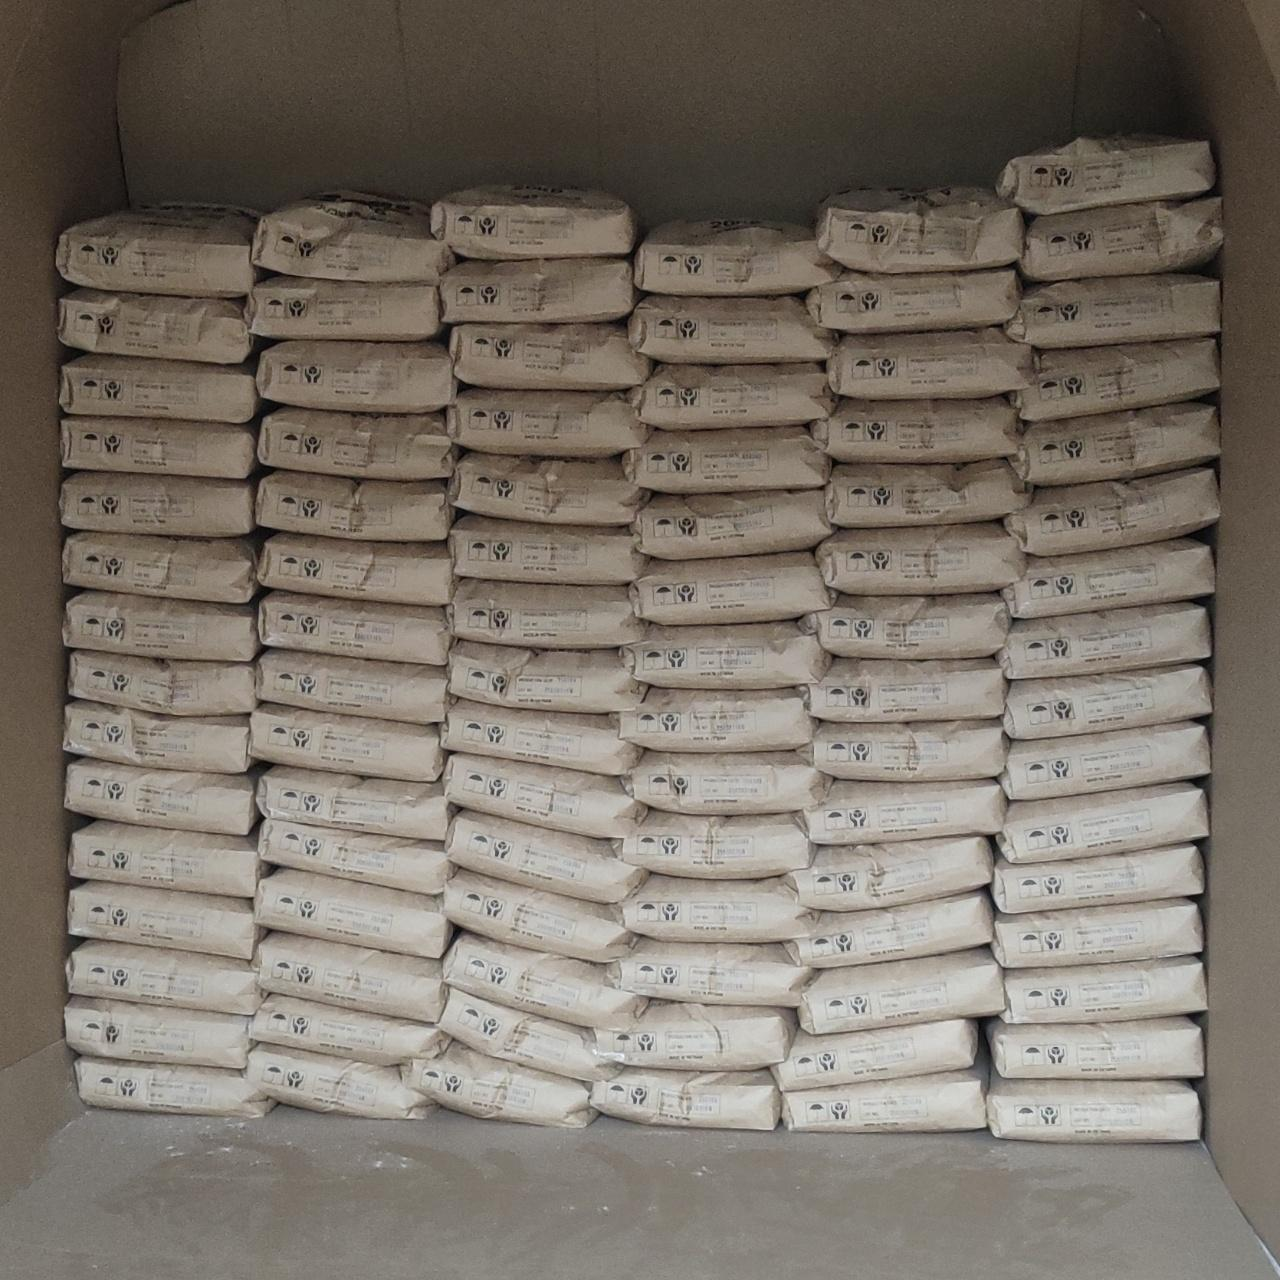sack: (444, 932, 644, 1026), (56, 203, 258, 295), (253, 192, 452, 282), (445, 812, 644, 900), (998, 136, 1214, 215), (816, 188, 1022, 270), (1006, 470, 1218, 550), (256, 870, 450, 956), (256, 932, 444, 1020), (442, 870, 629, 958), (1012, 404, 1218, 484), (1014, 340, 1218, 420), (444, 754, 642, 836), (1020, 198, 1223, 278), (998, 784, 1206, 862), (802, 949, 1000, 1030), (440, 988, 617, 1078), (402, 1044, 594, 1126), (998, 604, 1208, 678), (1005, 540, 1212, 614), (1002, 724, 1206, 798), (787, 892, 990, 966), (1008, 274, 1218, 346), (1005, 666, 1210, 738), (636, 220, 836, 294), (784, 838, 990, 908), (70, 881, 260, 958), (442, 700, 638, 774), (252, 704, 442, 779), (68, 940, 260, 1014), (260, 821, 452, 894), (433, 186, 636, 256), (632, 552, 832, 622), (70, 822, 264, 894), (258, 765, 450, 838), (60, 290, 252, 362), (772, 1020, 976, 1088), (828, 331, 1030, 399), (450, 454, 646, 524), (256, 651, 448, 722), (66, 760, 254, 832), (258, 470, 452, 540), (994, 900, 1201, 966), (260, 408, 454, 478), (594, 1000, 794, 1068), (258, 342, 454, 411), (608, 938, 810, 1005), (258, 535, 452, 604), (248, 1044, 430, 1118), (818, 524, 1022, 590), (258, 592, 448, 662), (448, 642, 644, 710), (808, 268, 1017, 332), (992, 846, 1201, 910), (66, 996, 250, 1068), (624, 428, 828, 492), (826, 462, 1030, 526), (450, 516, 646, 583), (632, 492, 830, 558), (988, 1017, 1201, 1078), (1002, 958, 1204, 1022), (629, 297, 835, 360), (812, 399, 1017, 462), (66, 702, 250, 772), (624, 622, 828, 686), (60, 356, 256, 422), (450, 388, 646, 454), (617, 810, 812, 876), (784, 1065, 983, 1130), (629, 365, 832, 428), (66, 592, 254, 660), (988, 1080, 1198, 1141), (448, 580, 642, 646), (452, 324, 651, 388), (64, 532, 258, 598), (252, 996, 445, 1062), (618, 876, 813, 940), (802, 779, 1005, 842), (442, 258, 636, 322), (804, 658, 1005, 719), (802, 594, 1006, 654), (617, 688, 812, 750), (802, 720, 1005, 779), (626, 753, 828, 812), (62, 472, 254, 535), (248, 278, 438, 340), (62, 418, 254, 478), (70, 652, 254, 714), (592, 1068, 778, 1126), (76, 1058, 270, 1114)
